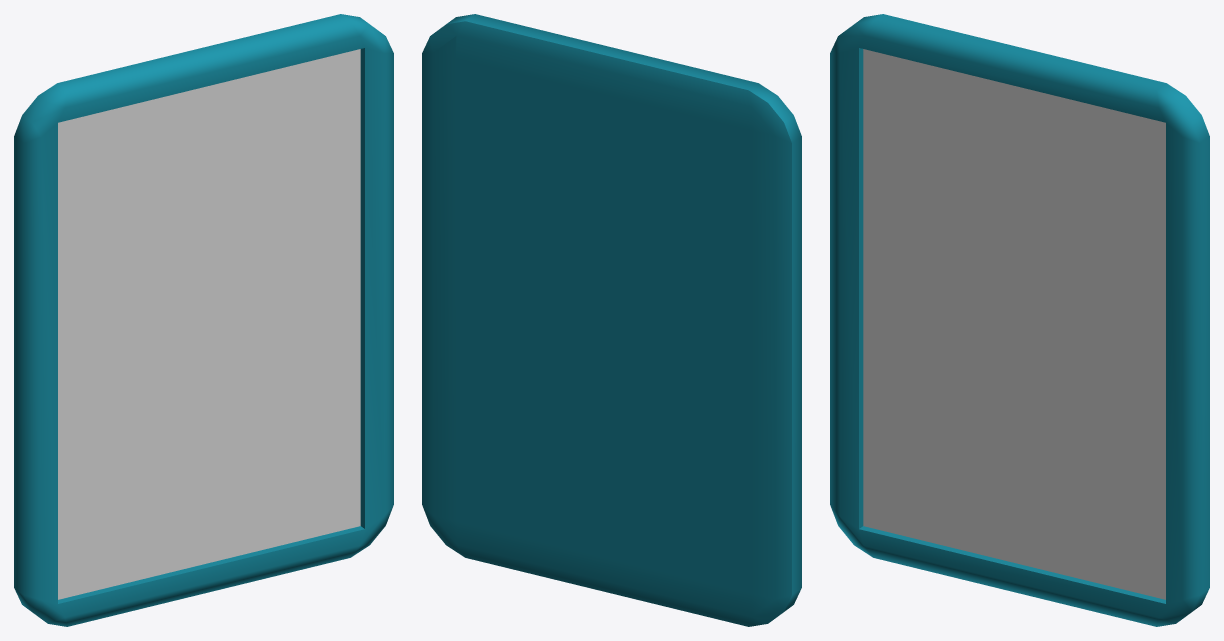
The model's file is WhiteBoardGeo.fbx.
3 views of the same model, side by side, from view 1: azimuth 30°, elevation 25°; view 2: azimuth 150°, elevation 25°; view 3: azimuth 330°, elevation 25° (orthographic).
Visible parts, largest first — view 1: WhiteBoardGeo; view 2: WhiteBoardGeo; view 3: WhiteBoardGeo.
Boxes of the visible parts, bbox=[...] form: WhiteBoardGeo: bbox=[14, 14, 393, 626]; WhiteBoardGeo: bbox=[422, 14, 801, 626]; WhiteBoardGeo: bbox=[830, 14, 1209, 626].
Bounding box in the file's own units: 165 × 229 × 12.42.
